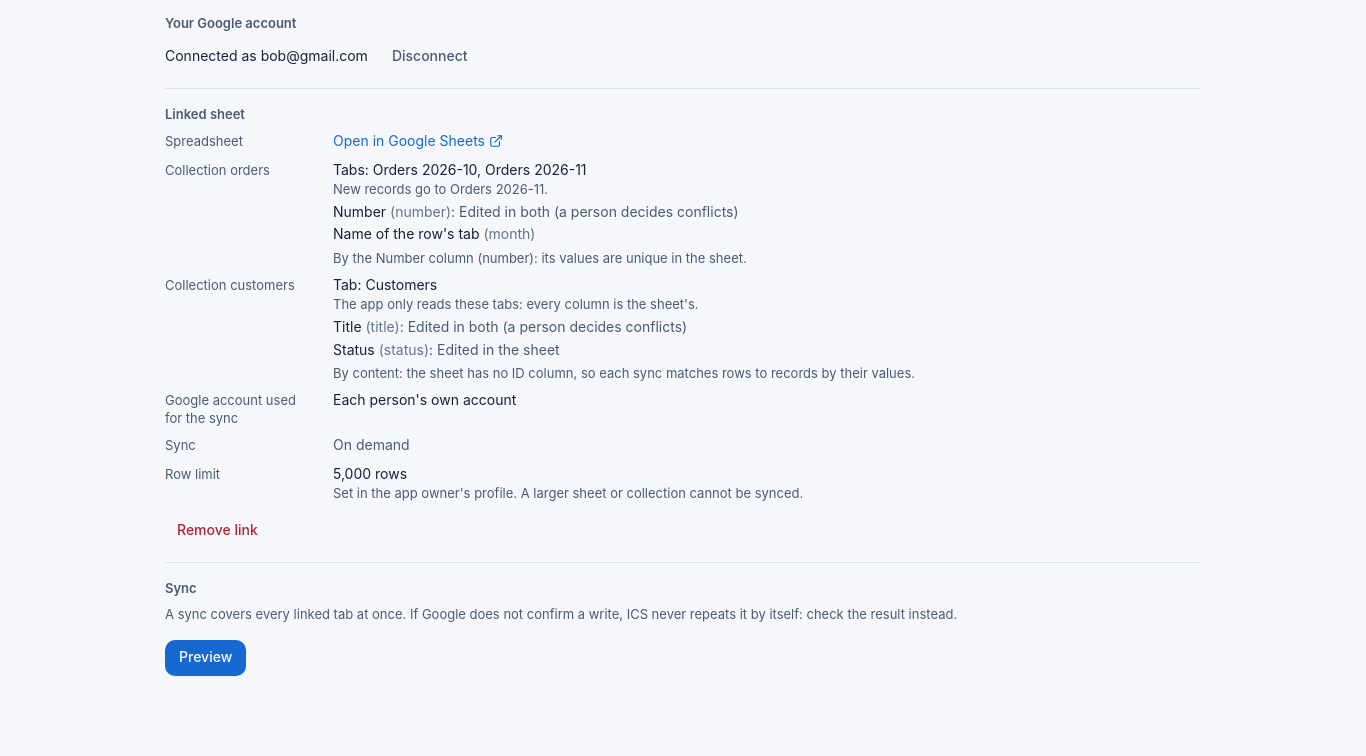
Scenario: Google Sheets tab, a file with several collections and tabs › names the collection, tab and row of every change
(page scrolled)
Click the button "Preview".
click(206, 658)  # box left=165, top=640, right=246, bottom=676
(page scrolled)
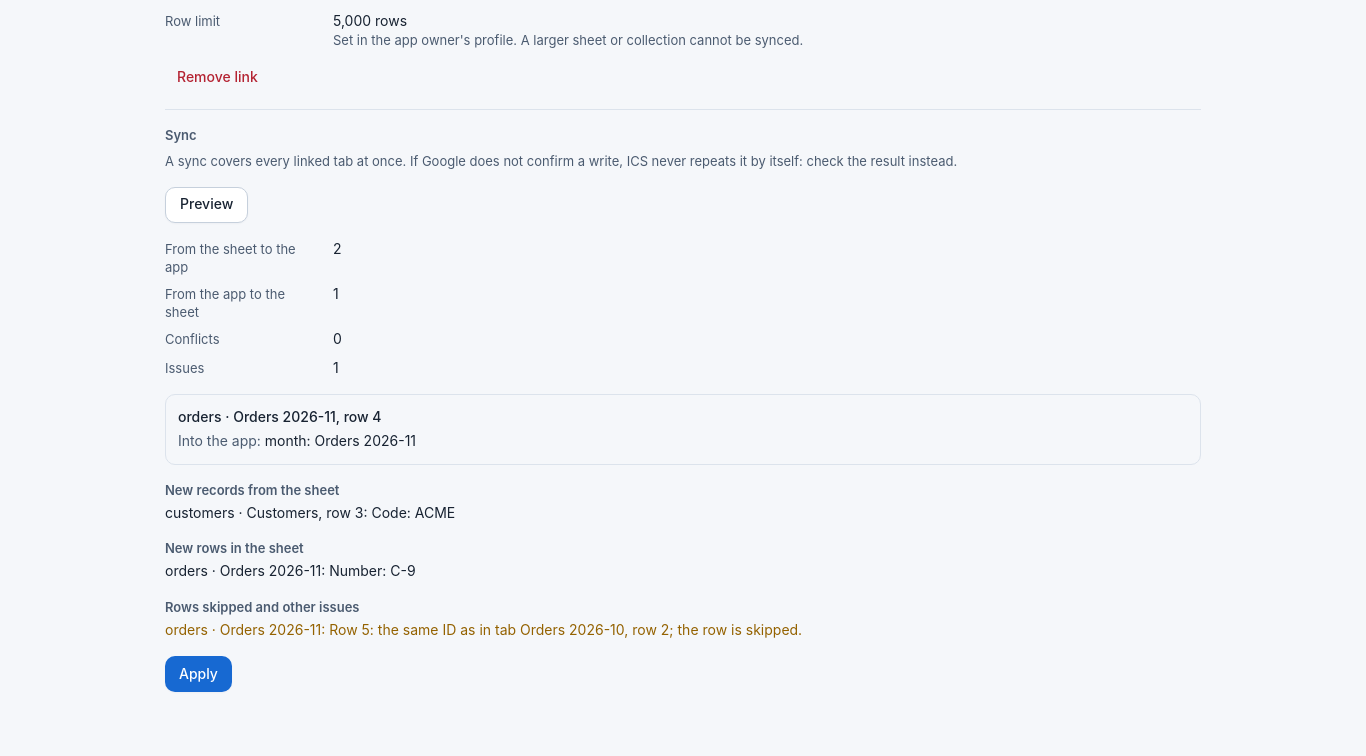
Expected: the text "orders · Orders 2026-11, row 4" is shown, left=178, top=408, right=382, bottom=425
Expected: the list item "customers · Customers, row 3: Code: ACME" is shown, left=165, top=504, right=455, bottom=521
Expected: the list item "orders · Orders 2026-11: Number: C-9" is shown, left=165, top=562, right=416, bottom=579
